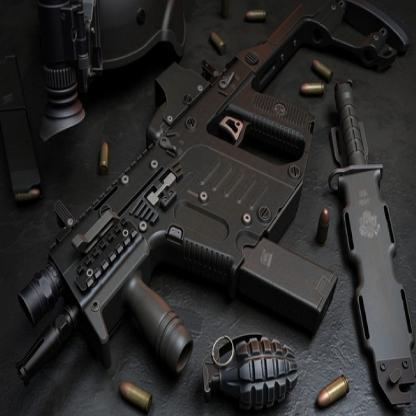Grenade: (202, 331, 299, 416)
Gun: (17, 0, 410, 388)
Knife: (326, 75, 416, 415)
